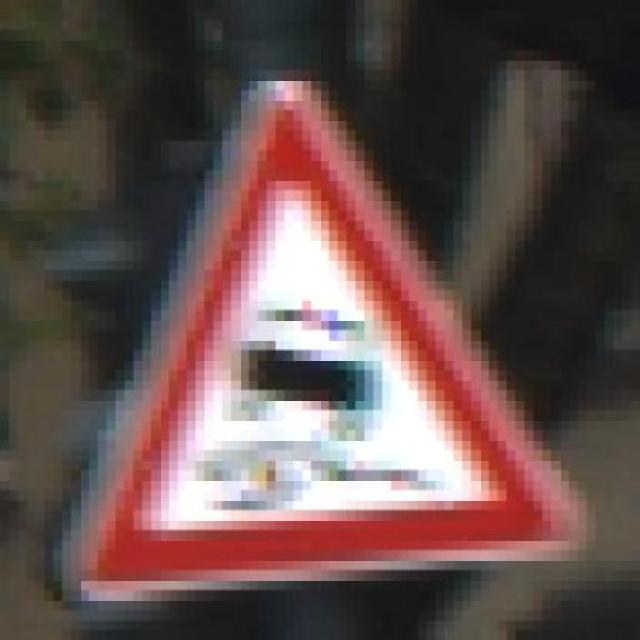Slippery Road Ahead: (58, 59, 582, 598)
